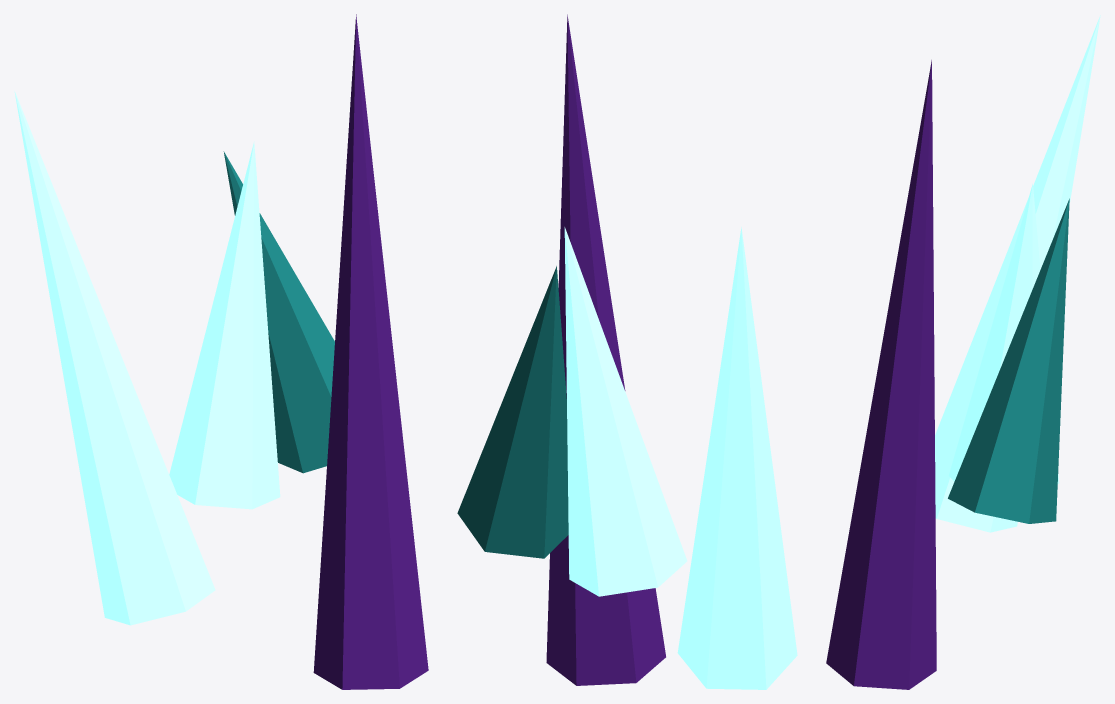
The model's file is Prop_OR_Crystal_01.glb.
3 views of the same model, side by side, from view 1: azimuth 30°, elevation 25°; view 2: azimuth 150°, elevation 25°; view 3: azimuth 270°, elevation 25° (orthographic). The views are drawn at different scales.
Visible parts, largest first — view 1: Prop_OR_Crystal_01; view 2: Prop_OR_Crystal_01; view 3: Prop_OR_Crystal_01.
Part boxes in pixels (left/top/right/bottom): Prop_OR_Crystal_01: left=14, top=14, right=428, bottom=689; Prop_OR_Crystal_01: left=457, top=14, right=797, bottom=689; Prop_OR_Crystal_01: left=826, top=15, right=1100, bottom=689.
Bounding box in the file's own units: 0.7771 × 1.53 × 0.6189.
